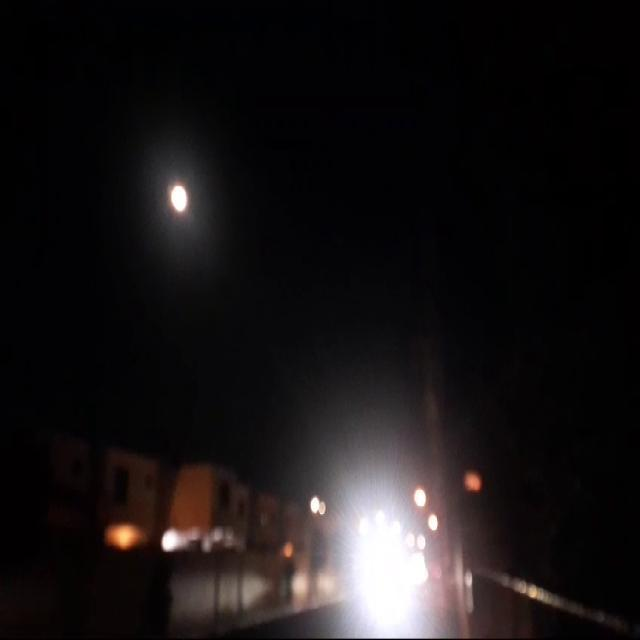moon: (172, 180, 190, 214)
